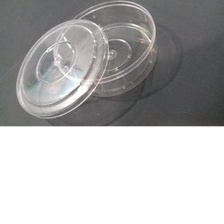plastic_box: (8, 0, 164, 121)
